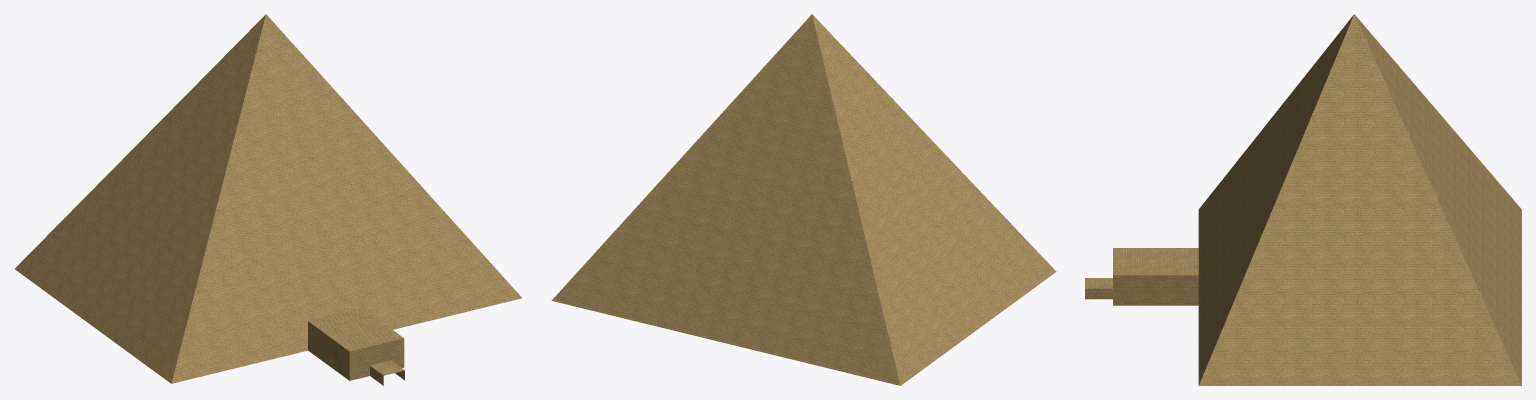
3 views of the same model, side by side, from view 1: azimuth 30°, elevation 25°; view 2: azimuth 150°, elevation 25°; view 3: azimuth 270°, elevation 25° (orthographic). The views are drawn at different scales.
Visible parts, largest first — view 1: SketchUp (×2); view 2: SketchUp; view 3: SketchUp (×2).
Boxes of the visible parts, x1,y1,x2,y2 form: SketchUp (×2): (15, 14, 522, 385); SketchUp: (551, 14, 1056, 385); SketchUp (×2): (1085, 14, 1521, 385).
Size of the model in its own units: 167 by 175 by 124.
Materials: 10 (1 with a texture image).
